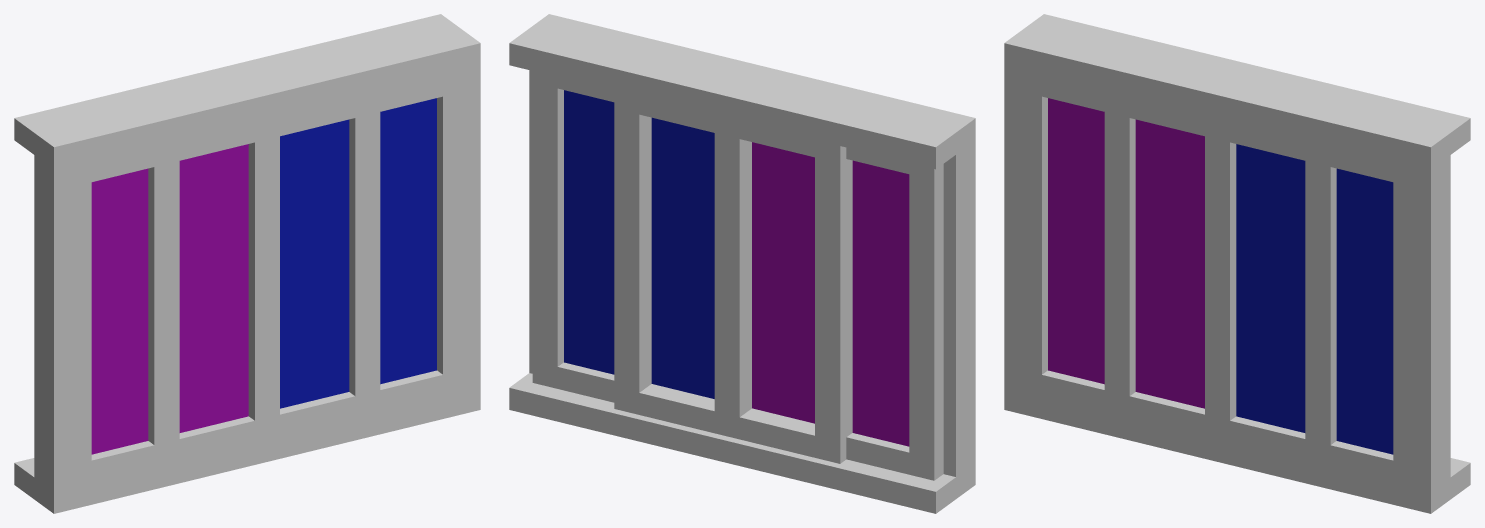
The model's file is Window_01_low.fbx.
3 renders of one model, left to right at view 1: azimuth 30°, elevation 25°; view 2: azimuth 150°, elevation 25°; view 3: azimuth 330°, elevation 25°, orthographic.
Parts seen in each view (by area): view 1: Window01_low; view 2: Window01_low; view 3: Window01_low.
Part boxes in pixels (<box>): Window01_low: <box>14,14,480,513</box>; Window01_low: <box>509,14,975,513</box>; Window01_low: <box>1004,14,1470,513</box>.
Bounding box in the file's own units: 95.7 × 15.47 × 78.58.
